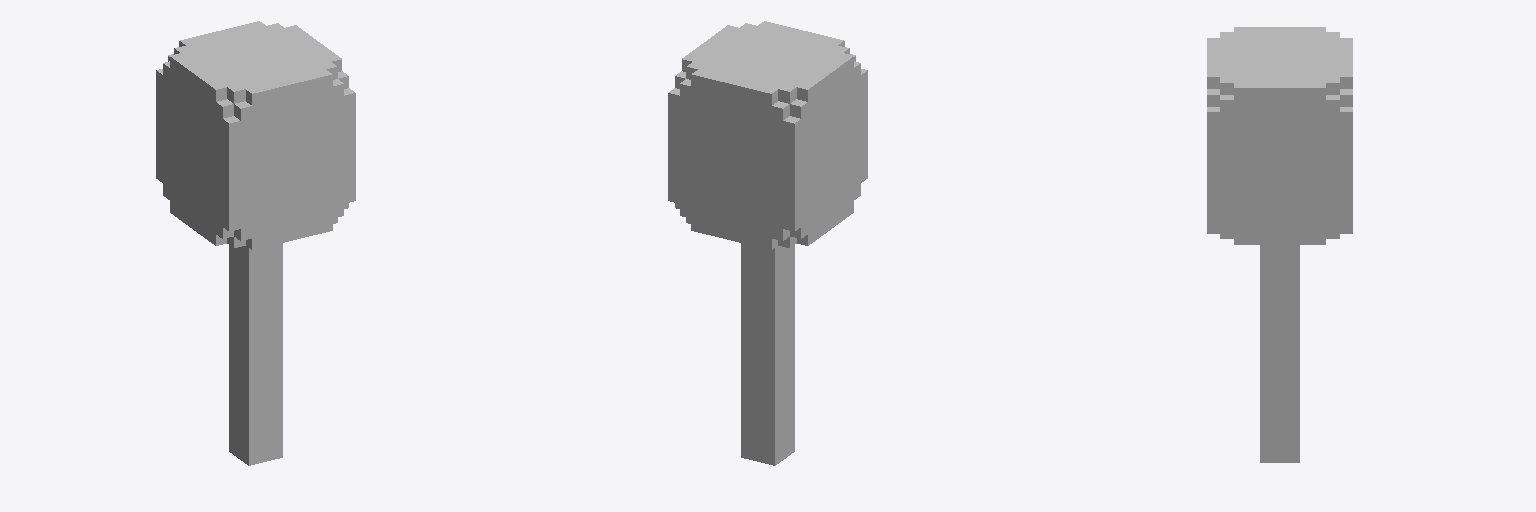
The model's file is tree2.obj.
3 views of the same model, side by side, from view 1: azimuth 30°, elevation 25°; view 2: azimuth 150°, elevation 25°; view 3: azimuth 270°, elevation 25° (orthographic).
Visible parts, largest first — view 1: object 1; view 2: object 1; view 3: object 1.
Boxes of the visible parts, x1,y1,x2,y2 form: object 1: [156, 21, 355, 465]; object 1: [668, 21, 867, 465]; object 1: [1207, 27, 1352, 462].
Bounding box in the file's own units: 1.1 × 3.3 × 1.1.